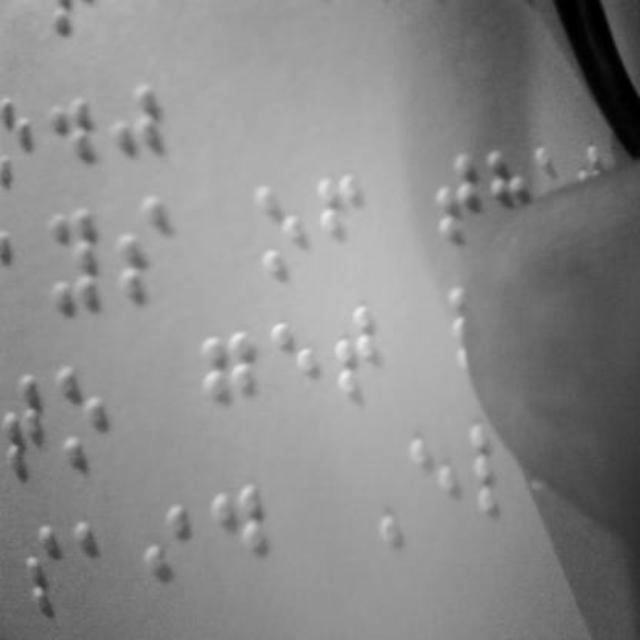braiile: (208, 480, 268, 600), (52, 202, 115, 314), (12, 520, 72, 636), (52, 356, 112, 472), (139, 503, 195, 627), (200, 328, 260, 442), (268, 315, 326, 431), (70, 514, 126, 630), (119, 195, 175, 308), (0, 81, 60, 185), (254, 178, 310, 286), (314, 170, 368, 282), (328, 301, 382, 411), (1, 220, 54, 330), (407, 430, 463, 534), (433, 148, 489, 244), (1, 372, 48, 480)
